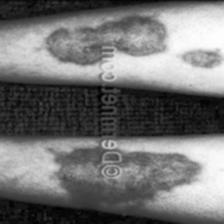Unclassified: (68, 147, 214, 202), (176, 53, 222, 71)
